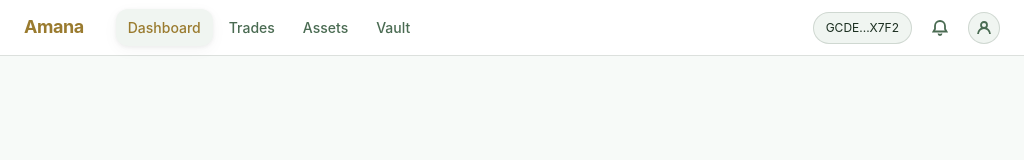
Test: AppTopNav wallet address (#937) › copies the full address to the clipboard on click
The width and height of the screenshot is (1024, 160).
Click the button "GCDE...X7F2" at (862, 28), box [813,12,912,44]
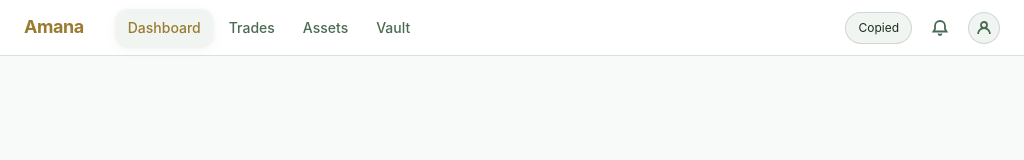
Expected: the button "Copied" is shown, [845,12,912,44]
